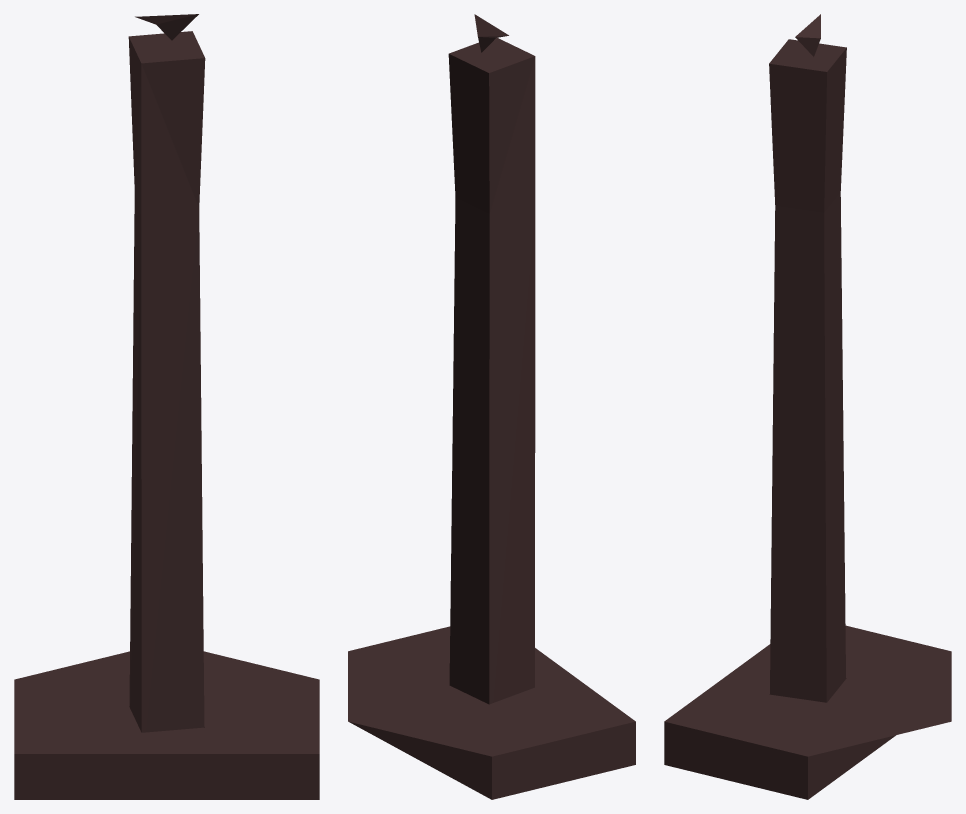
The model's file is road-pole.lod2.glb.
3 views of the same model, side by side, from view 1: azimuth 30°, elevation 25°; view 2: azimuth 150°, elevation 25°; view 3: azimuth 270°, elevation 25° (orthographic). The views are drawn at different scales.
Visible parts, largest first — view 1: Object_4; view 2: Object_4; view 3: Object_4.
Boxes of the visible parts, <box> form: Object_4: <box>14,14,319,799</box>; Object_4: <box>348,14,635,799</box>; Object_4: <box>664,14,951,799</box>.
Bounding box in the file's own units: 0.463 × 1.08 × 0.401.
